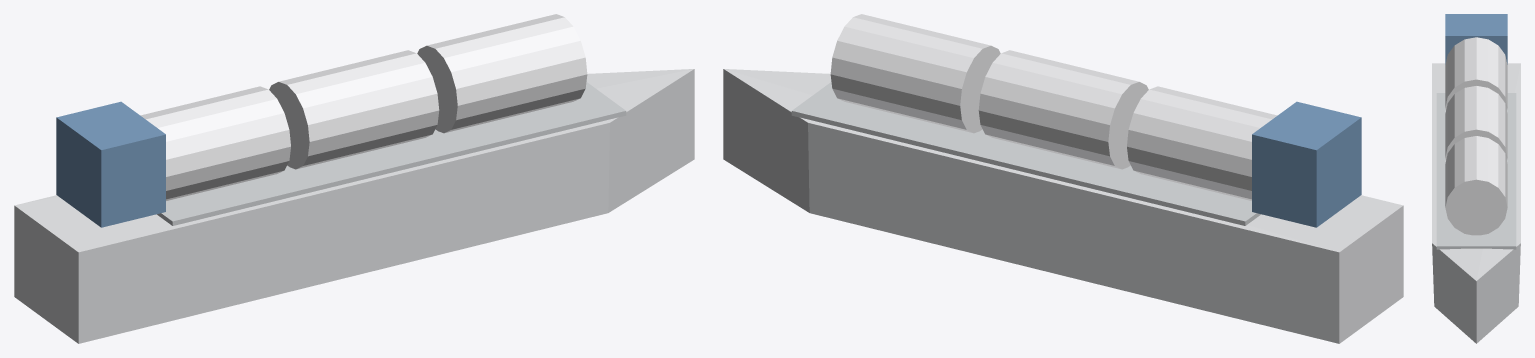
Rendered from lpg.glb.
3 renders of one model, left to right at view 1: azimuth 30°, elevation 25°; view 2: azimuth 150°, elevation 25°; view 3: azimuth 270°, elevation 25°, orthographic. The views are drawn at different scales.
Parts seen in each view (by area): view 1: hull, tank1, tank2, deck, house, tank0; view 2: hull, tank1, tank2, deck, house, tank0; view 3: hull, tank2, deck, tank1, tank0, house.
Boxes of the visible parts, box(x1,y1,x2,y2) form: hull: box(14, 69, 694, 343); tank1: box(269, 50, 439, 169); tank2: box(417, 14, 587, 133); deck: box(157, 82, 626, 225); house: box(56, 101, 165, 227); tank0: box(140, 86, 290, 200); hull: box(723, 69, 1403, 343); tank1: box(978, 50, 1148, 169); tank2: box(830, 14, 1000, 133); deck: box(791, 82, 1260, 225); house: box(1252, 101, 1361, 227); tank0: box(1127, 86, 1277, 200); hull: box(1432, 63, 1520, 343); tank2: box(1445, 136, 1507, 235); deck: box(1436, 93, 1516, 249); tank1: box(1445, 86, 1507, 160); tank0: box(1445, 37, 1507, 109); house: box(1445, 14, 1507, 64).
Bounding box in the file's own units: 70 × 18.45 × 12.
